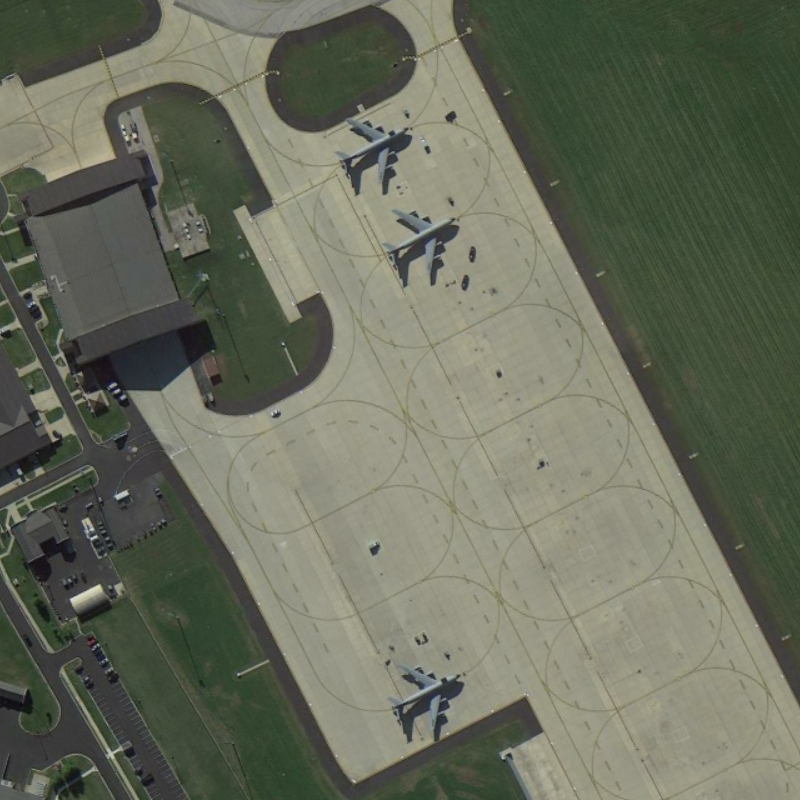A14: (334, 104, 413, 197), (385, 658, 465, 745), (380, 205, 461, 290)
